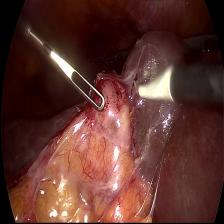Grasper: (36, 36, 108, 123), (87, 44, 120, 72)
Hook: (131, 56, 179, 120)
